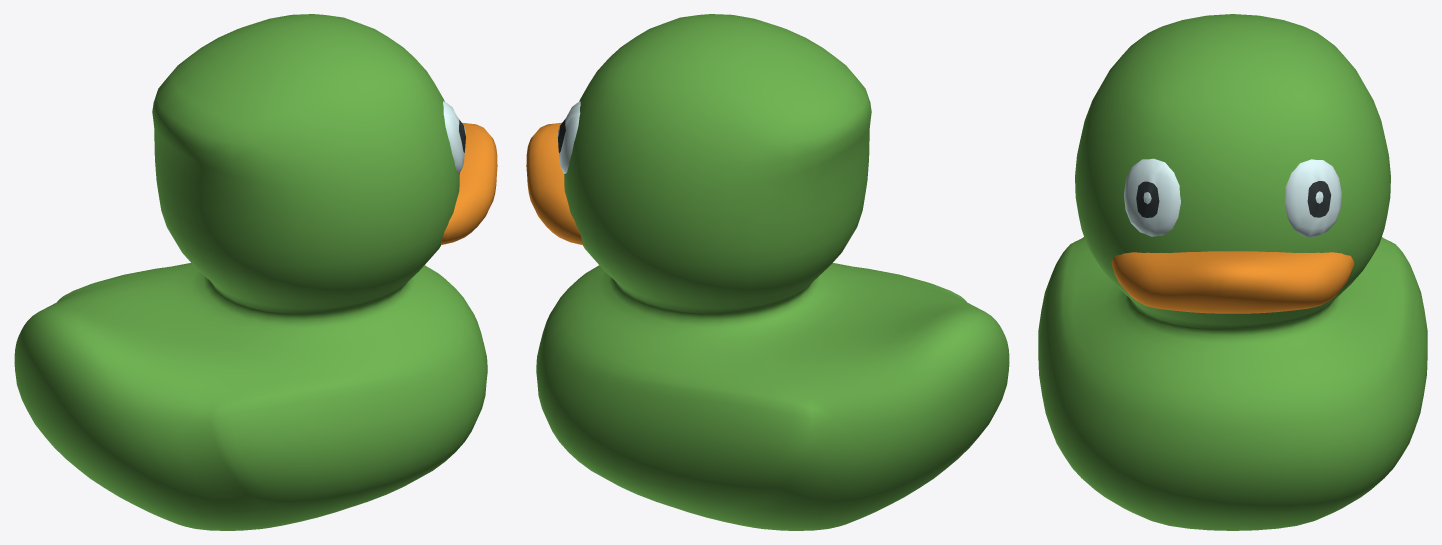
File: Rubber Ducky Green.fbx
3 renders of one model, left to right at view 1: azimuth 30°, elevation 25°; view 2: azimuth 150°, elevation 25°; view 3: azimuth 270°, elevation 25°, orthographic. The views are drawn at different scales.
Parts seen in each view (by area): view 1: Rubber_Duck; view 2: Rubber_Duck; view 3: Rubber_Duck.
Boxes of the visible parts, left/top/right/bottom form: Rubber_Duck: left=14, top=14, right=497, bottom=530; Rubber_Duck: left=526, top=14, right=1009, bottom=530; Rubber_Duck: left=1038, top=14, right=1427, bottom=530.
Bounding box in the file's own units: 8.53 × 8.27 × 6.1.
Materials: 1 (1 with a texture image).
